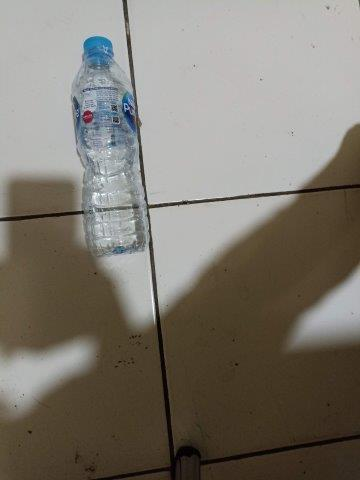botolplastik: (73, 37, 146, 253)
